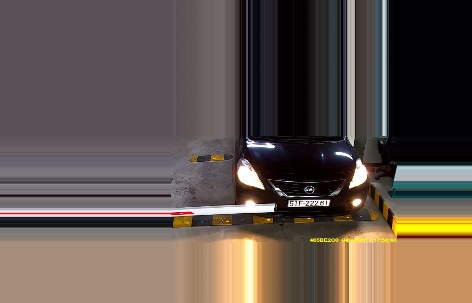plate: (288, 197, 329, 209)
